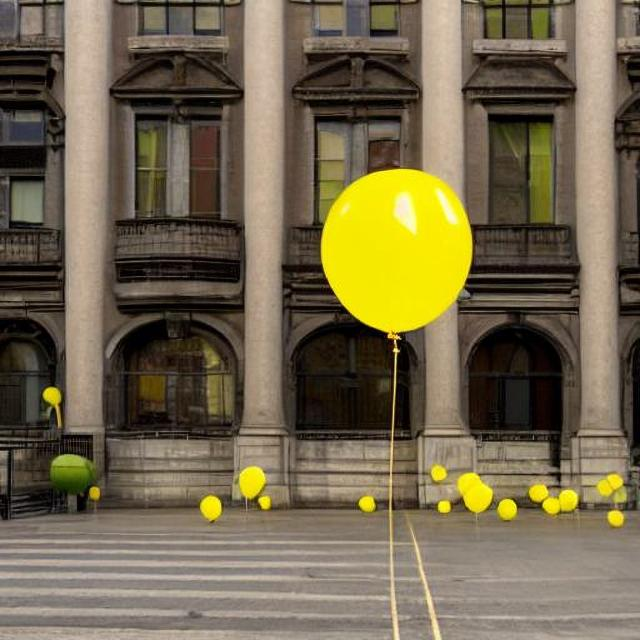balloon: (316, 164, 472, 336), (44, 451, 101, 506), (592, 468, 626, 530), (523, 481, 579, 518), (452, 470, 496, 514), (235, 459, 272, 507), (38, 380, 70, 410), (196, 492, 223, 524), (351, 489, 379, 517), (498, 495, 522, 526), (430, 459, 448, 488), (435, 499, 452, 515)
